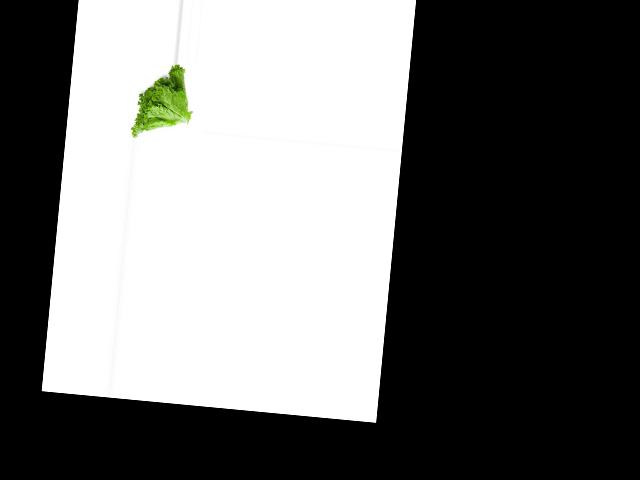lettuce: (128, 59, 195, 143)
